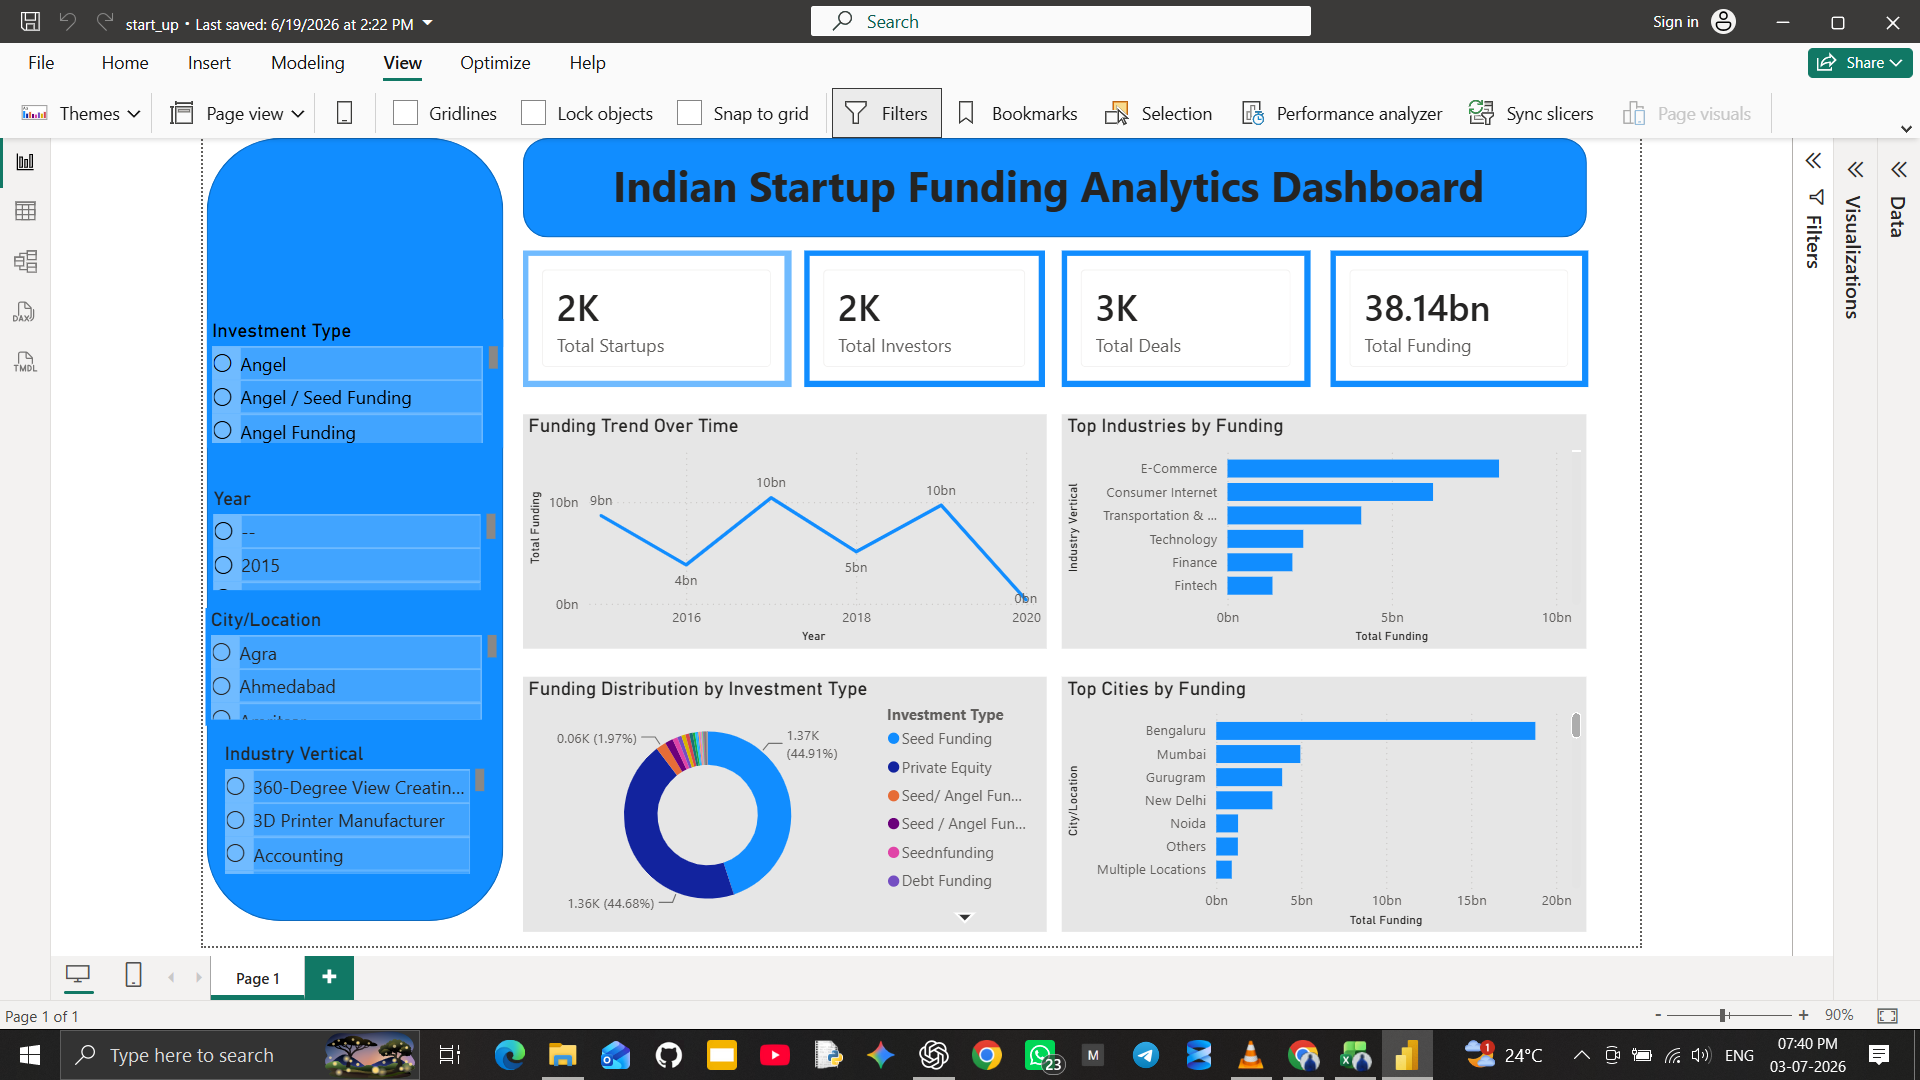

The dashboard page shown, as its layout file describes it:
{"tool":"powerbi","page":{"name":"Page 1","canvas":[1280,720],"ordinal":0},"visuals":[{"type":"shape","box":[3.6,0,264.2,697.3],"z":500},{"type":"cardVisual","fields":{"Data":["Sheet1.Total Startups"]},"box":[284.7,100.1,238.9,121.9],"z":1000},{"type":"cardVisual","fields":{"Data":["Sheet1.Total Investors"]},"box":[535.7,100.1,214.7,121.9],"z":2000},{"type":"cardVisual","fields":{"Data":["Sheet1.Total Funding"]},"box":[1003.8,100.1,229.2,121.9],"z":3000},{"type":"cardVisual","fields":{"Data":["Sheet1.Total Deals"]},"box":[764.9,100.1,222,121.9],"z":4000},{"type":"lineChart","title":"Funding Trend Over Time","fields":{"Y":["Sheet1.Total Funding"],"Category":["Sheet1.Year"]},"box":[285,246.2,466.2,208.8],"z":5000},{"type":"barChart","title":"Top Industries by Funding","fields":{"Category":["Sheet1.Industry Vertical"],"Y":["Sheet1.Total Funding"]},"box":[765,246.2,467.5,208.8],"z":6000},{"type":"barChart","title":"Top Cities by Funding","fields":{"Category":["Sheet1.City/Location"],"Y":["Sheet1.Total Funding"]},"box":[765,480,467.5,227.5],"z":7000},{"type":"donutChart","title":"Funding Distribution by Investment Type","fields":{"Category":["Sheet1.Investment Type"],"Y":["CountNonNull(Sheet1.Startup Name)"]},"box":[285,480,466.2,227.5],"z":8000},{"type":"listSlicer","fields":{"Values":["Sheet1.Year"]},"box":[4.8,310.1,261.8,97.7],"z":9000},{"type":"listSlicer","fields":{"Values":["Sheet1.Industry Vertical"]},"box":[14.5,538.1,241.3,123.1],"z":10000},{"type":"listSlicer","fields":{"Values":["Sheet1.City/Location"]},"box":[2.4,418.6,264.2,105],"z":11000},{"type":"listSlicer","fields":{"Values":["Sheet1.Investment Type"]},"box":[3.6,161.7,264.2,114.6],"z":12000},{"type":"shape","box":[285.4,0,947.5,88.5],"z":13000},{"type":"textbox","box":[293.2,12.1,920.5,67.6],"z":14000}]}

Visuals, with their boxes on the page's 1280x720 design canvas (x1, y1, x2, y2). These are canvas units, not pixel positions in the 1920x1080 screenshot, which may show the page scaled, cropped or inside an application window:
shape: <bbox>4, 0, 268, 697</bbox>
cardVisual - Sheet1.Total Startups: <bbox>285, 100, 524, 222</bbox>
cardVisual - Sheet1.Total Investors: <bbox>536, 100, 750, 222</bbox>
cardVisual - Sheet1.Total Funding: <bbox>1004, 100, 1233, 222</bbox>
cardVisual - Sheet1.Total Deals: <bbox>765, 100, 987, 222</bbox>
"Funding Trend Over Time" lineChart: <bbox>285, 246, 751, 455</bbox>
"Top Industries by Funding" barChart: <bbox>765, 246, 1232, 455</bbox>
"Top Cities by Funding" barChart: <bbox>765, 480, 1232, 708</bbox>
"Funding Distribution by Investment Type" donutChart: <bbox>285, 480, 751, 708</bbox>
listSlicer - Sheet1.Year: <bbox>5, 310, 267, 408</bbox>
listSlicer - Sheet1.Industry Vertical: <bbox>14, 538, 256, 661</bbox>
listSlicer - Sheet1.City/Location: <bbox>2, 419, 267, 524</bbox>
listSlicer - Sheet1.Investment Type: <bbox>4, 162, 268, 276</bbox>
shape: <bbox>285, 0, 1233, 88</bbox>
textbox: <bbox>293, 12, 1214, 80</bbox>
